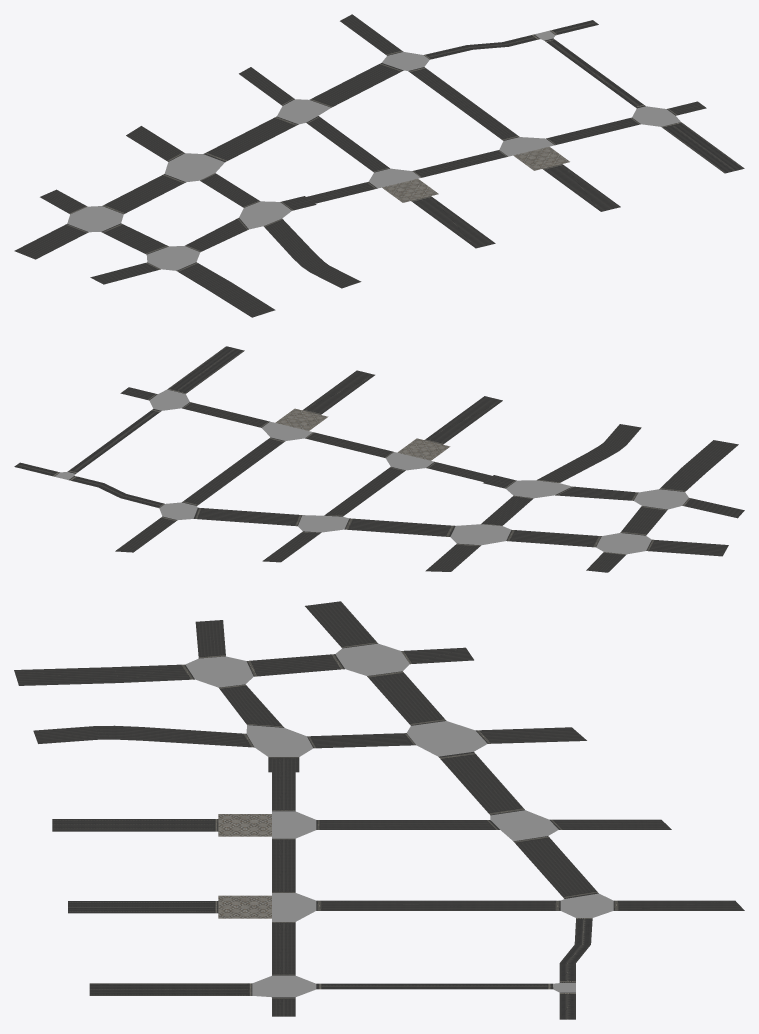
File: Roads.FBX
3 views of the same model, one above another, from view 1: azimuth 30°, elevation 25°; view 2: azimuth 150°, elevation 25°; view 3: azimuth 270°, elevation 25° (orthographic). The views are drawn at different scales.
Parts seen in each view (by area): view 1: Roads; view 2: Roads; view 3: Roads.
Part boxes in pixels (x1=…): Roads: x1=14, y1=14, x2=744, y2=317; Roads: x1=14, y1=346, x2=744, y2=572; Roads: x1=14, y1=601, x2=744, y2=1019.
Bounding box in the file's own units: 981 × 4.43e-14 × 724.
